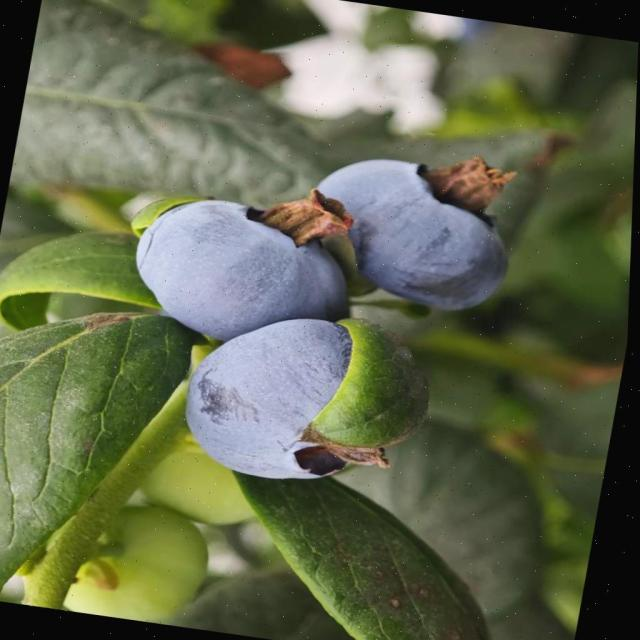RipeBlueBerry: (175, 298, 413, 496), (292, 141, 533, 324), (123, 180, 374, 354)
